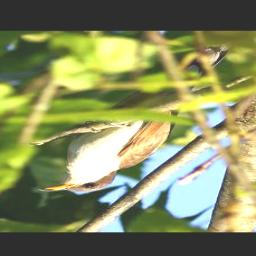Cuckoo: (35, 43, 236, 196)
